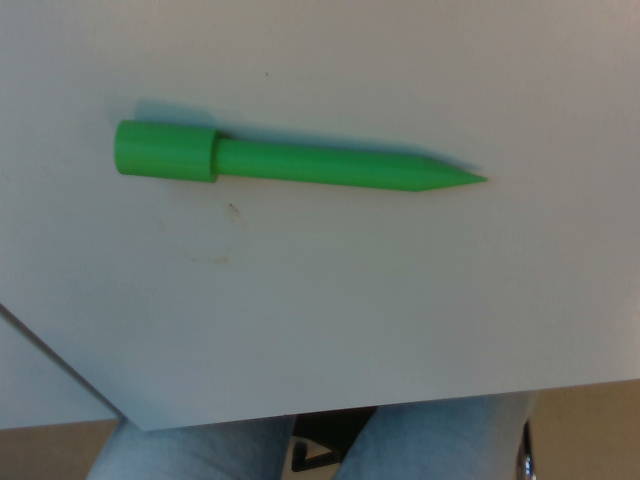Probe: (107, 111, 497, 212)
